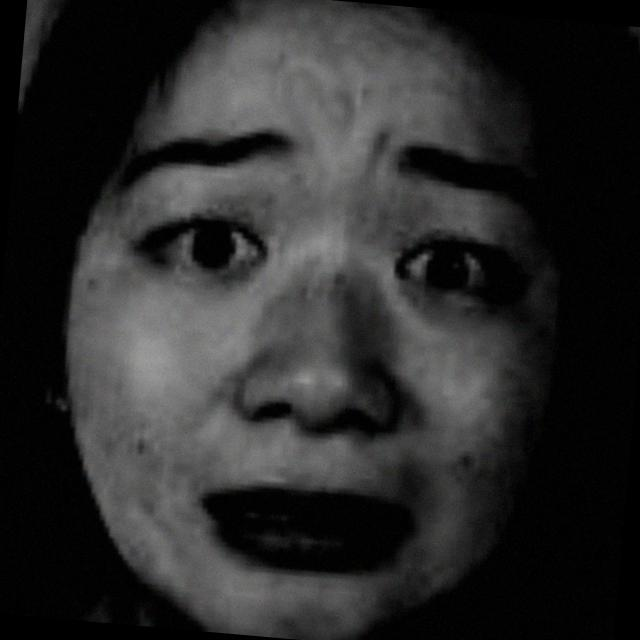fear: (40, 6, 580, 640)
